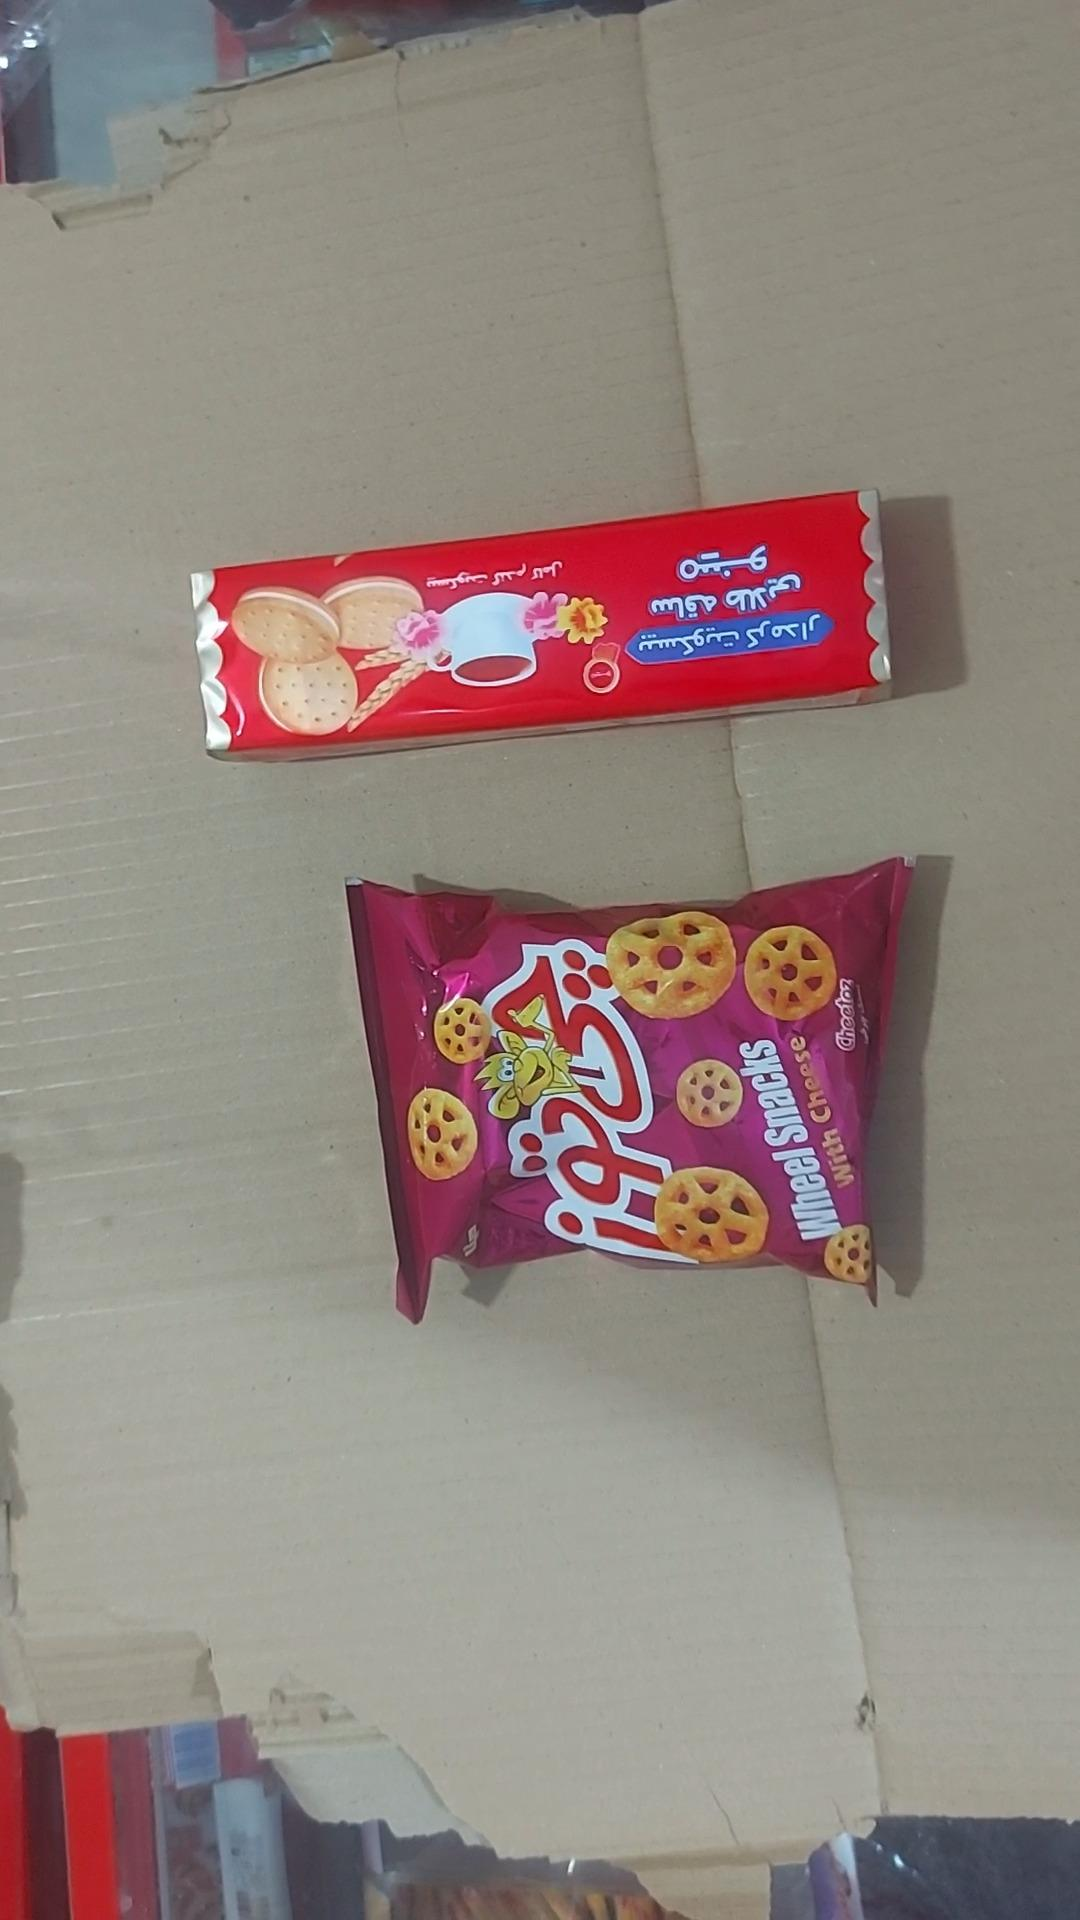Cheetoz wheelsnack: (347, 860, 914, 1326)
Minoo cream biscuit: (190, 489, 894, 764)
